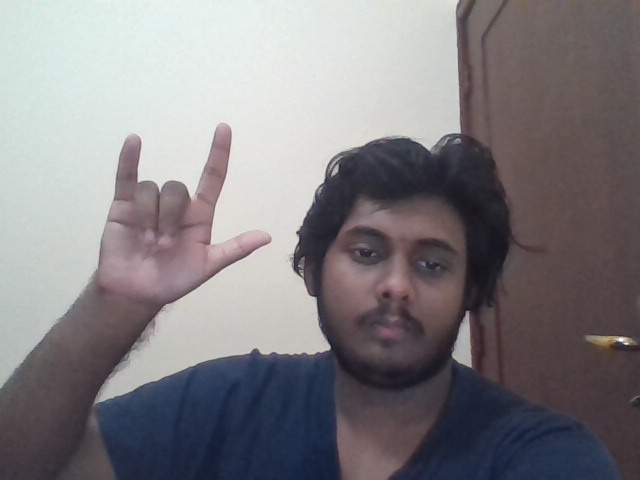iloveyou: (96, 122, 272, 311)
